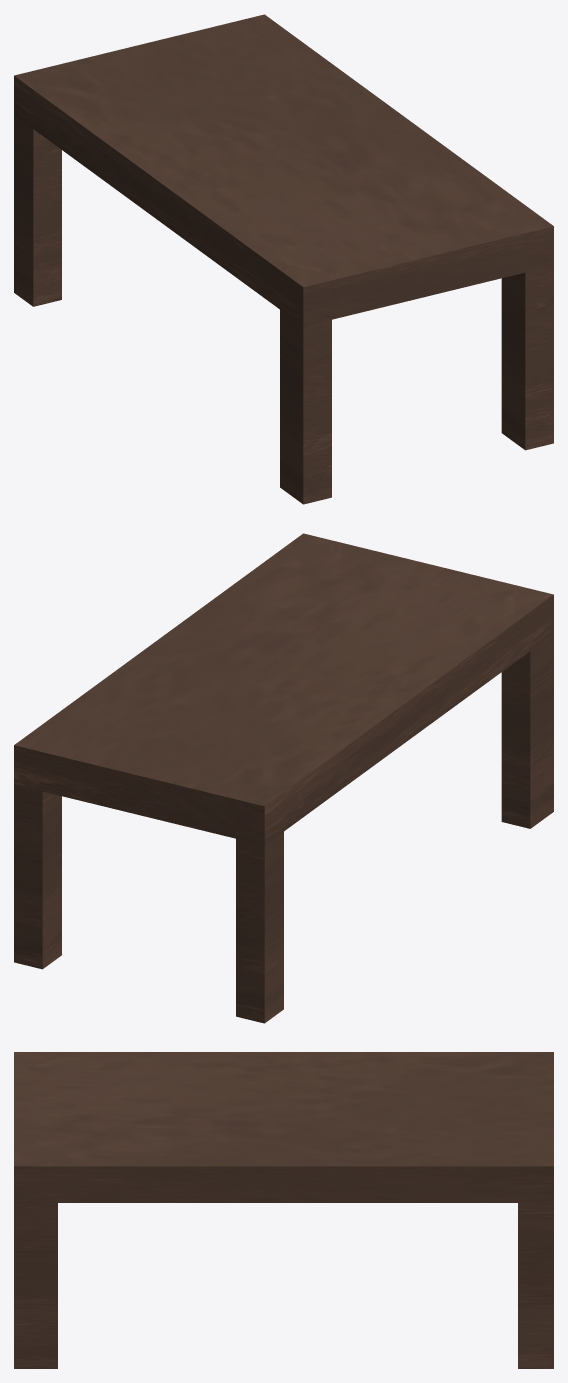
Rendered from Tisch.fbx.
3 views of the same model, one above another, from view 1: azimuth 30°, elevation 25°; view 2: azimuth 150°, elevation 25°; view 3: azimuth 270°, elevation 25° (orthographic). The views are drawn at different scales.
Visible parts, largest first — view 1: Cube; view 2: Cube; view 3: Cube.
Boxes of the visible parts, box(x1,y1,x2,y2) form: Cube: box(14, 14, 553, 504); Cube: box(14, 533, 553, 1023); Cube: box(14, 1052, 553, 1368).
Size of the model in its own units: 200 by 166 by 400.
1 material, 1 textured.
